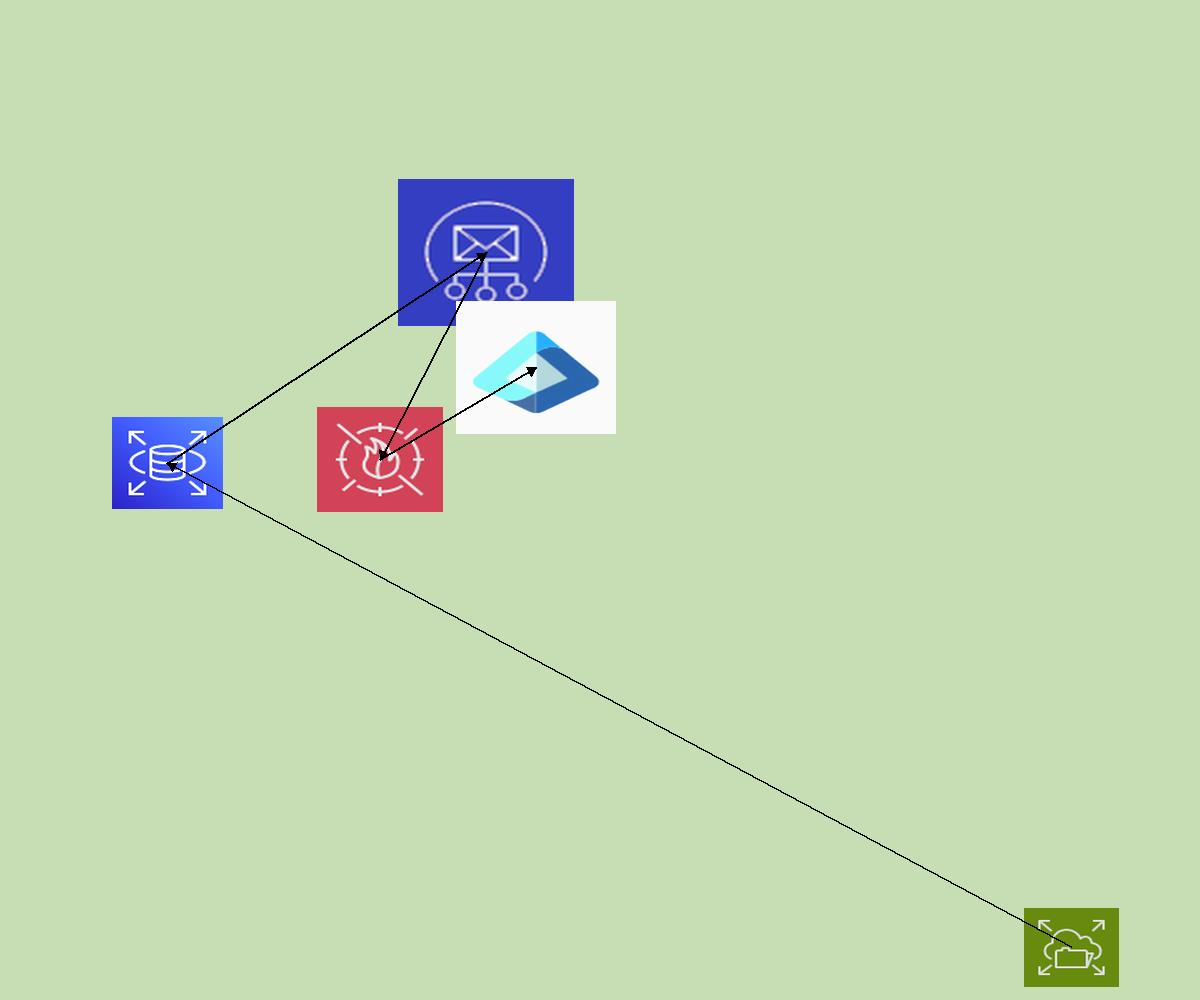AWS-EFS: (1024, 908, 1119, 987)
AWS-RDS: (112, 417, 223, 509)
AWS-Simple-Email-Service: (398, 179, 574, 326)
AWS-WAF: (317, 407, 443, 512)
Azure_microsoft_entra: (456, 301, 616, 434)
